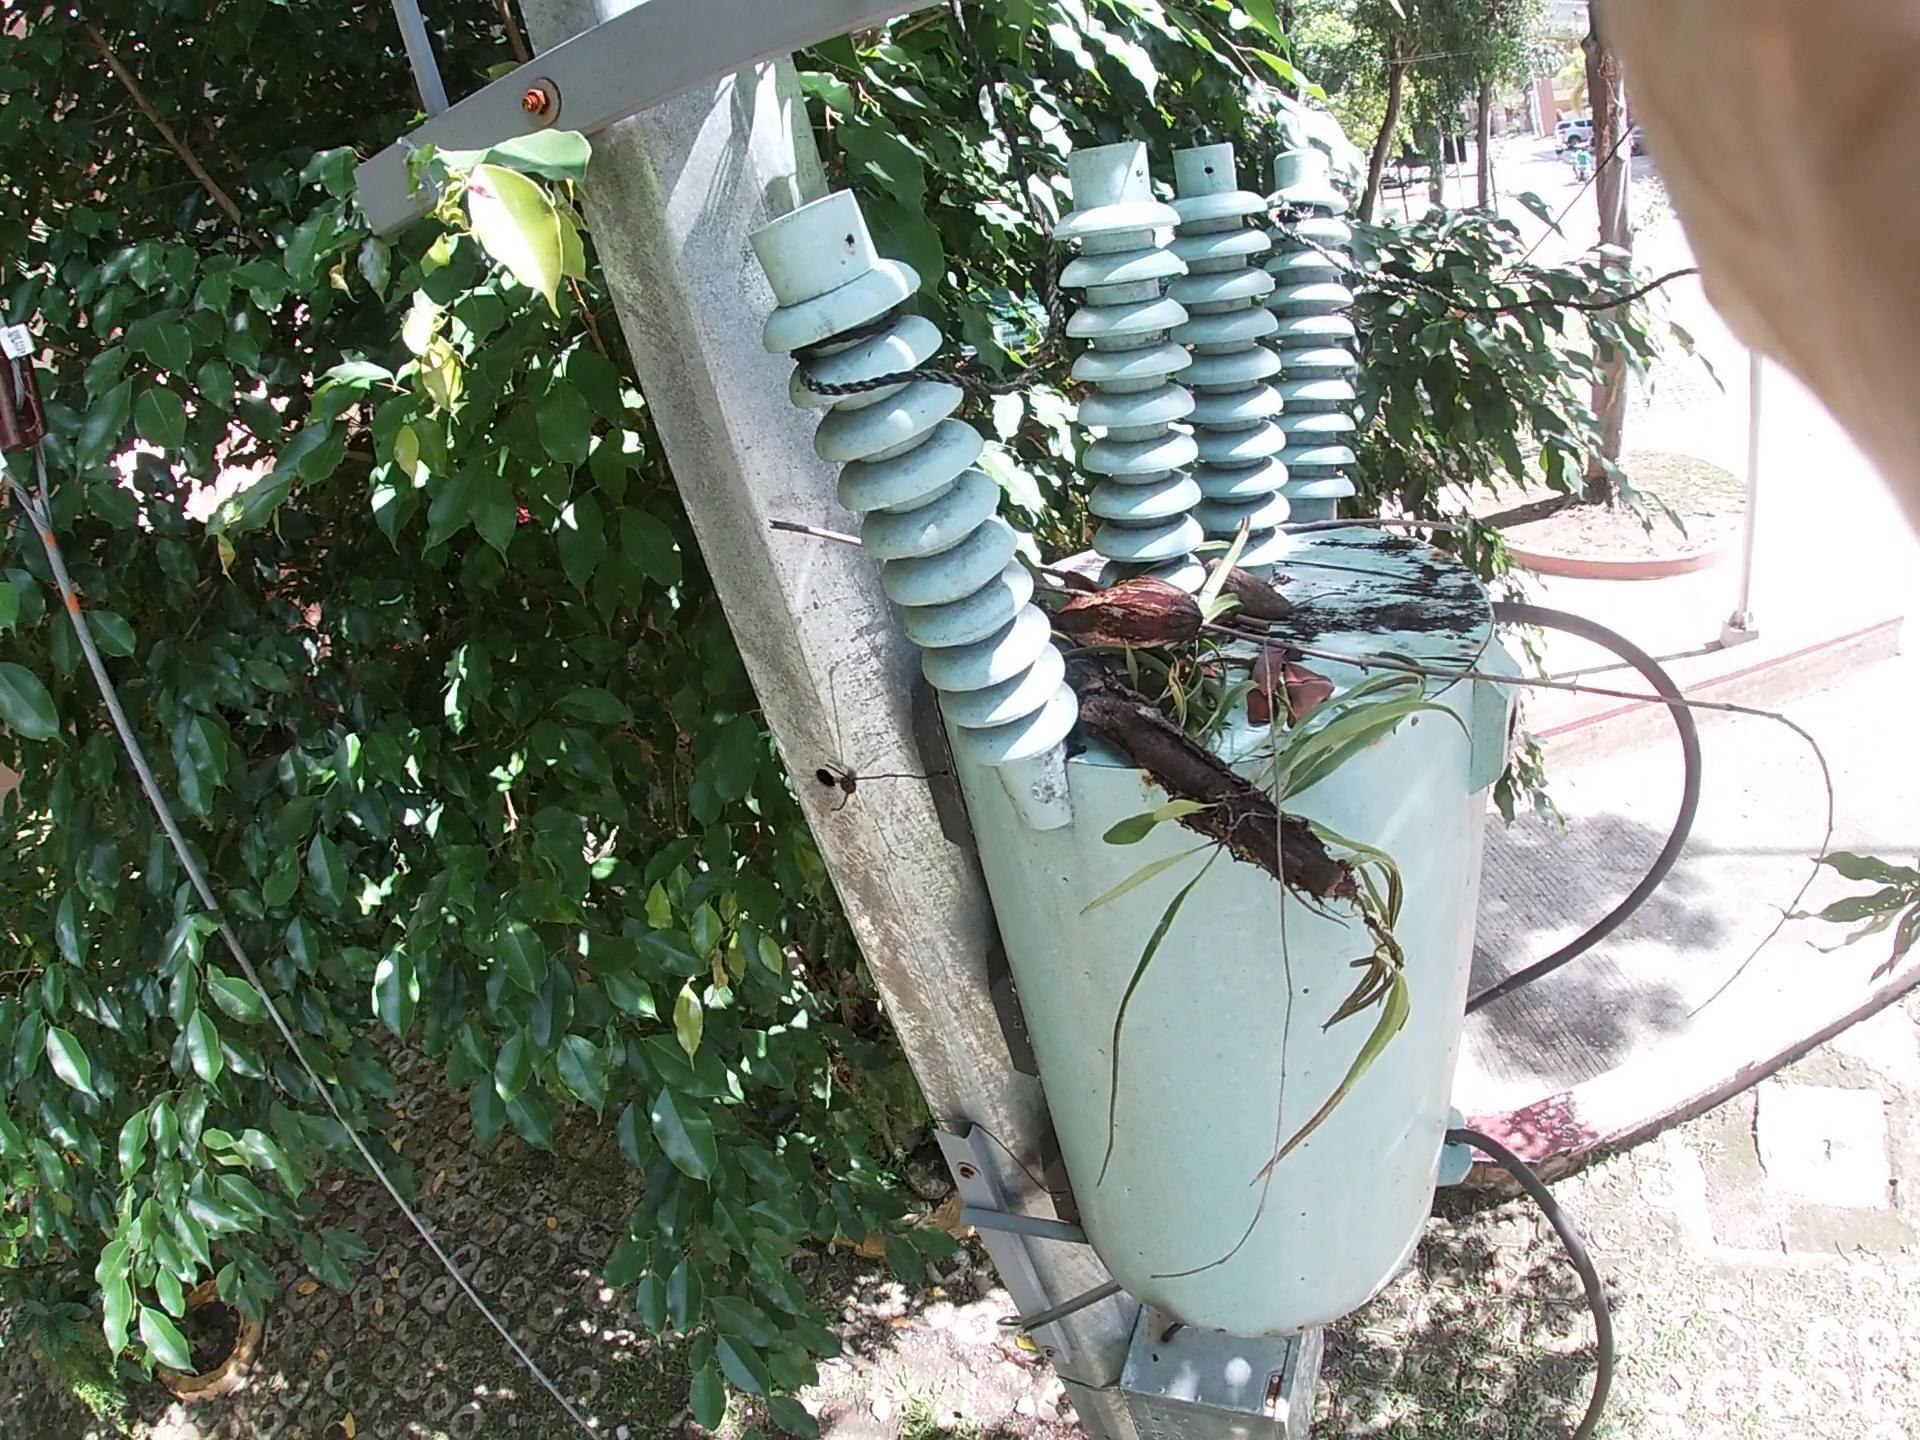branch with leaves: (1011, 593, 1432, 1115)
leaf: (1237, 617, 1312, 749)
mahogany fruit: (1042, 554, 1297, 693)
tree branch: (782, 517, 1869, 882), (1243, 470, 1457, 557)
